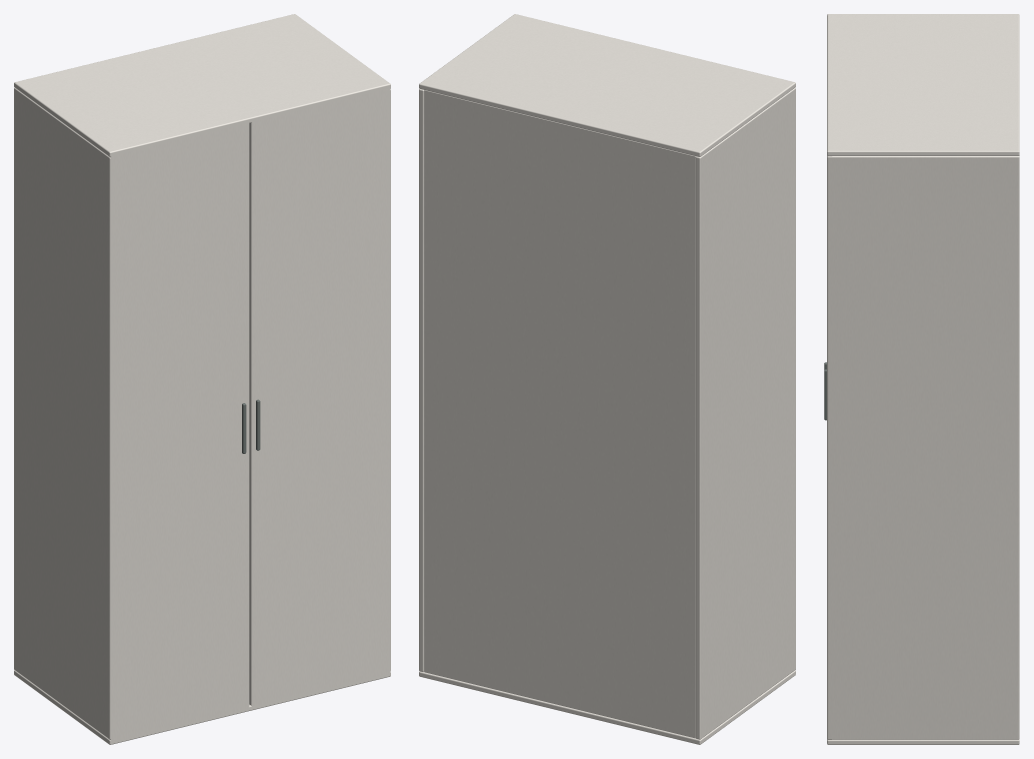
Rendered from pax.glb.
The picture shows the model from 3 angles, left to right: view 1: azimuth 30°, elevation 25°; view 2: azimuth 150°, elevation 25°; view 3: azimuth 270°, elevation 25°; orthographic projection.
Parts seen in each view (by area): view 1: PAX / FORSAND Wardrobe; view 2: PAX / FORSAND Wardrobe; view 3: PAX / FORSAND Wardrobe.
Boxes of the visible parts, x1=… form: PAX / FORSAND Wardrobe: x1=14, y1=14, x2=390, y2=744; PAX / FORSAND Wardrobe: x1=419, y1=14, x2=795, y2=744; PAX / FORSAND Wardrobe: x1=824, y1=14, x2=1019, y2=744.
Bounding box in the file's own units: 1 × 2.01 × 0.6.
Materials: 2 (1 with a texture image).
